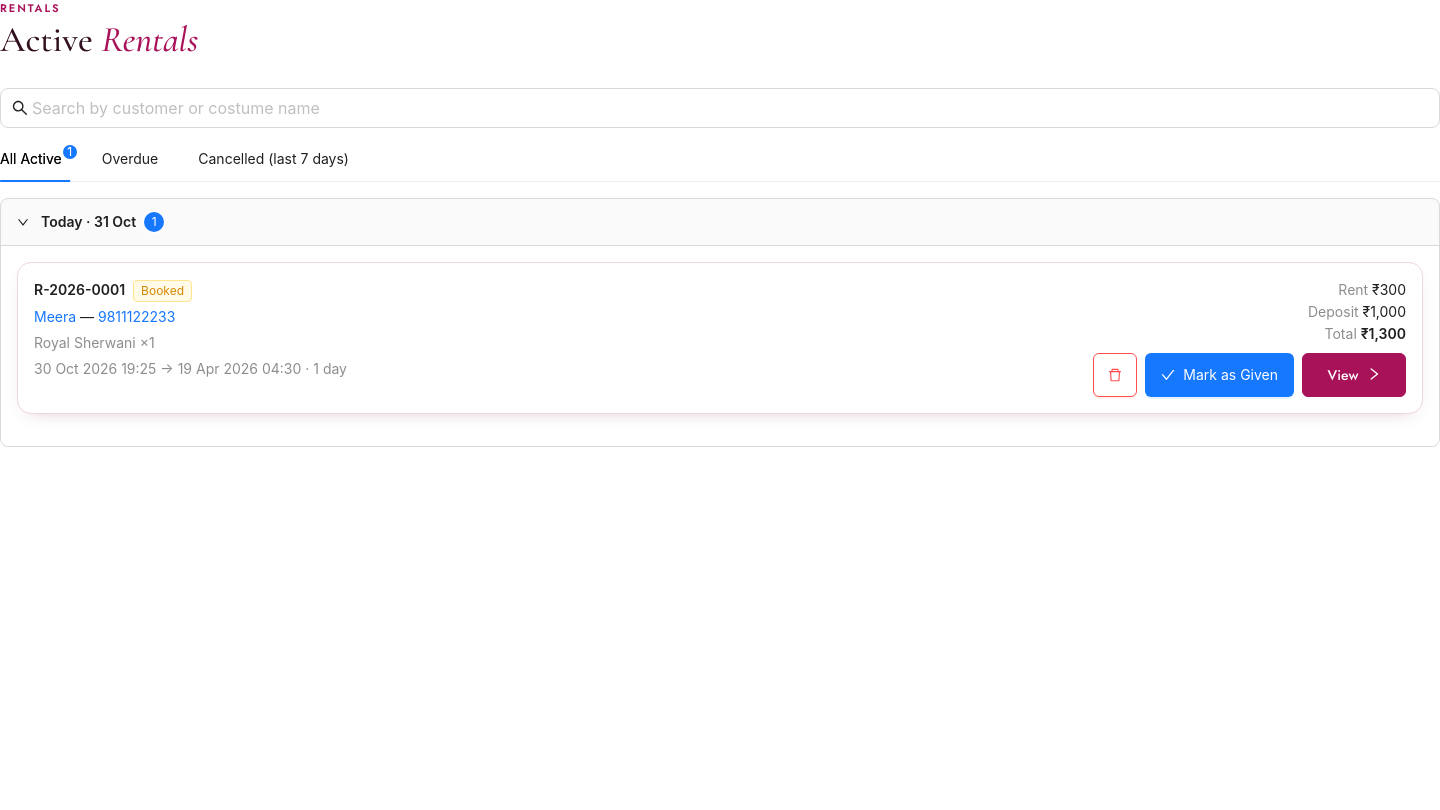
it: ReceiptsPage given / booked state on the Active Rentals card › swaps the Booked tag for the tick after Mark as Given is confirmed
This screenshot has width=1440, height=810.
Click the button "Mark as Given".
click(1220, 375)  # box left=1145, top=353, right=1294, bottom=397
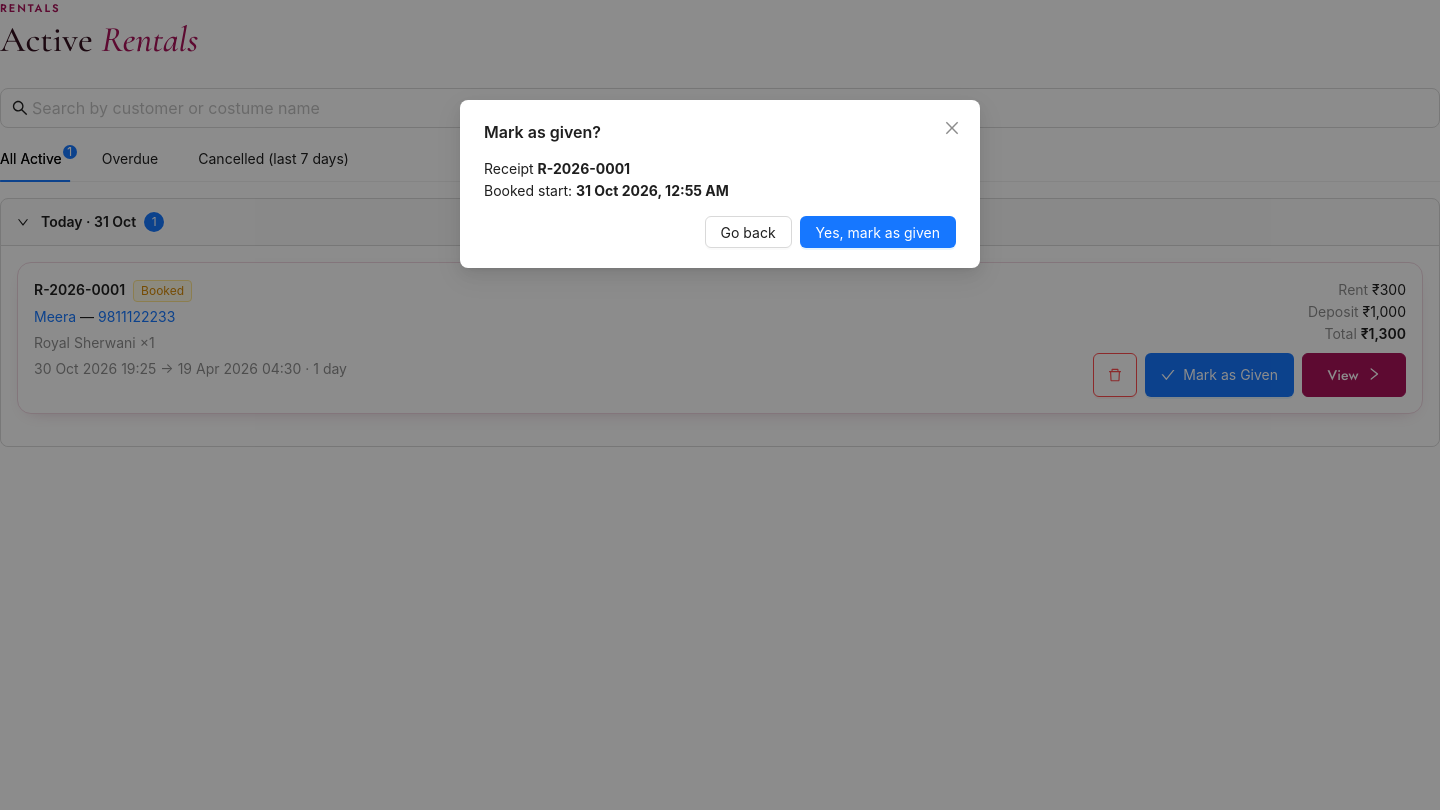
Click the button "Yes, mark as given".
click(878, 232)  # box left=800, top=216, right=956, bottom=248
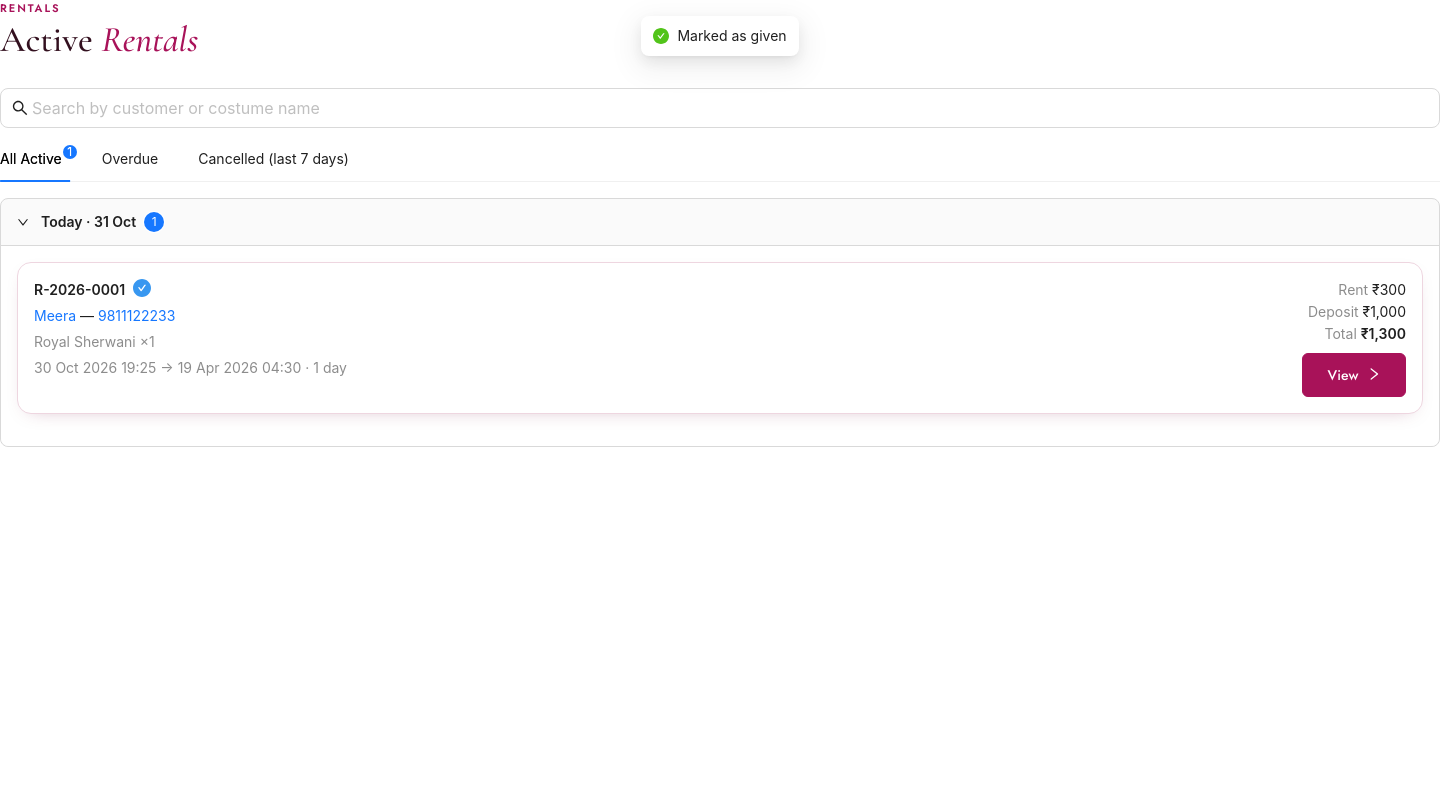
Expected: the picture named "Given to customer" is shown, left=133, top=279, right=151, bottom=297
Expected: the text "Booked" is gone
